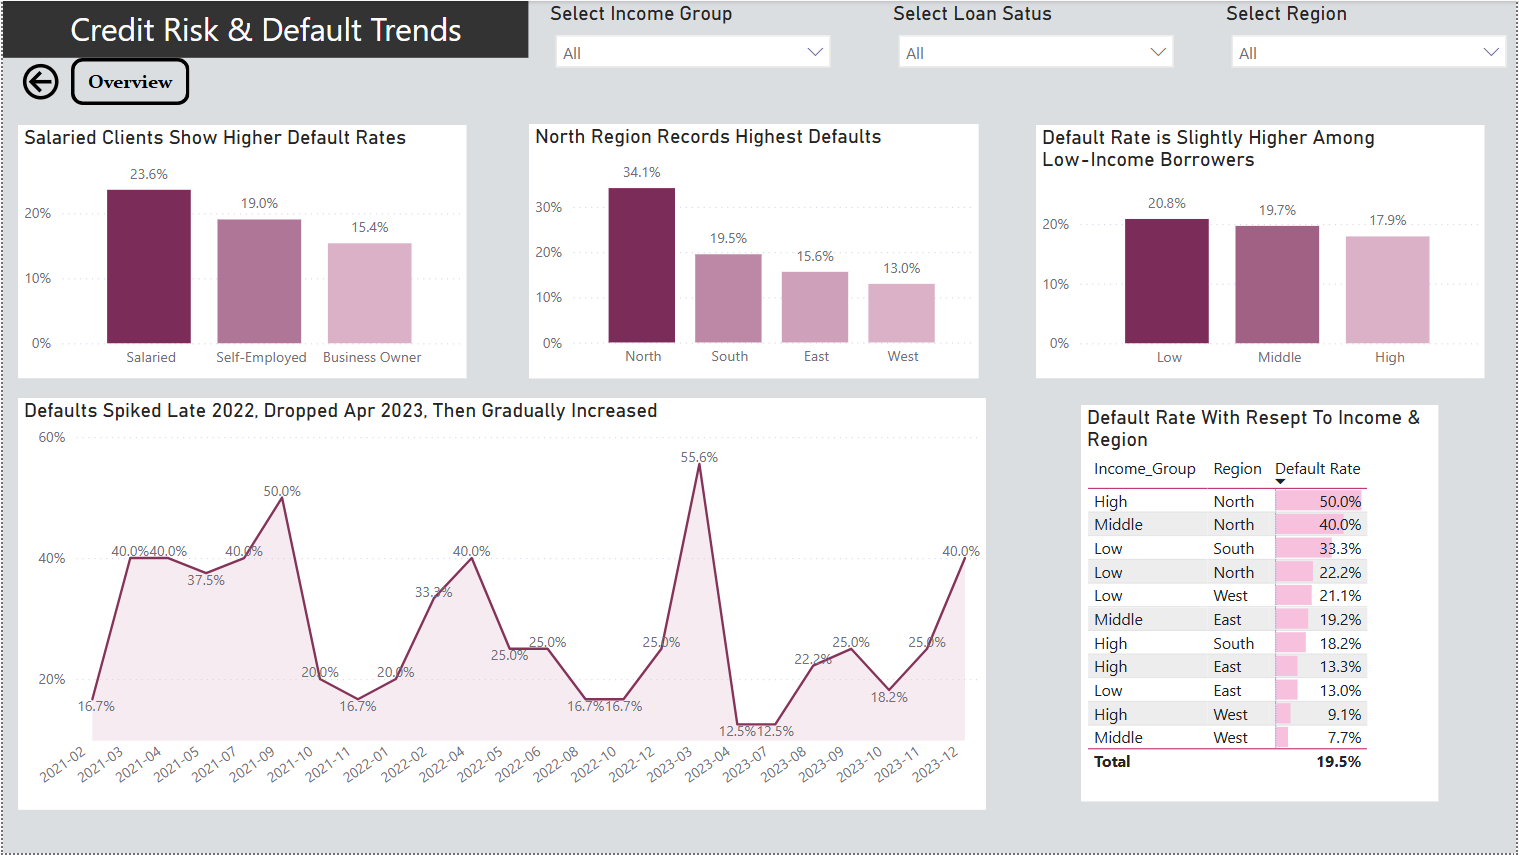

What the dashboard file says about the page in this screenshot:
{"tool":"powerbi","page":{"name":" Credit Risk & Default Trends","canvas":[1280,720],"ordinal":2},"visuals":[{"type":"textbox","box":[0,0,444.2,48.3],"z":1500},{"type":"columnChart","title":"Salaried Clients Show Higher Default Rates","fields":{"Category":["Customers.Occupation"],"Y":["M_Table.Default Rate (%)"]},"box":[12.3,104.9,378.8,214.4],"z":3000},{"type":"slicer","title":"Select Region","fields":{"Values":["Customers.Region"]},"box":[1028.5,0,251.8,79.4],"z":4000},{"type":"slicer","title":"Select Income Group","fields":{"Values":["Customers.Income_Group"]},"box":[457.2,0,251.8,79.4],"z":5000},{"type":"lineChart","title":"Defaults Spiked Late 2022, Dropped Apr 2023, Then Gradually Increased","fields":{"Y":["M_Table.Default Rate (%)"],"Category":["DateTable.YearMonth"]},"box":[12.3,335.4,818.1,347.6],"z":6000},{"type":"tableEx","title":"Default Rate With Resept To Income & Region","fields":{"Values":["Customers.Income_Group","Customers.Region","M_Table.Default Rate (%)"]},"box":[911,341.4,301.7,335.5],"z":7000},{"type":"columnChart","title":"Default Rate is Slightly Higher Among Low-Income Borrowers","fields":{"Category":["Customers.Income_Group"],"Y":["M_Table.Default Rate (%)"]},"box":[872.9,104.9,378.8,214.4],"z":8000},{"type":"columnChart","title":"North Region Records Highest Defaults ","fields":{"Category":["Customers.Region"],"Y":["M_Table.Default Rate (%)"]},"box":[444.5,104,379.6,214.6],"z":9000},{"type":"slicer","title":"Select Loan Satus","fields":{"Values":["Loans.Status"]},"box":[747,0,251.8,79.4],"z":10000},{"type":"actionButton","box":[57.6,48.2,100.1,39.7],"z":11000},{"type":"actionButton","box":[12.1,48.5,45.7,40.1],"z":12001}]}

Visuals, with their boxes in screenshot pixels (x1, y1, x2, y2), scaled from the page's 1280x720 canvas onto the 1519x855 screenshot:
textbox: [0,0,527,57]
"Salaried Clients Show Higher Default Rates" columnChart: [15,125,464,379]
"Select Region" slicer: [1221,0,1518,94]
"Select Income Group" slicer: [543,0,841,94]
"Defaults Spiked Late 2022, Dropped Apr 2023, Then Gradually Increased" lineChart: [15,398,985,811]
"Default Rate With Resept To Income & Region" tableEx: [1081,405,1439,804]
"Default Rate is Slightly Higher Among Low-Income Borrowers" columnChart: [1036,125,1485,379]
"North Region Records Highest Defaults " columnChart: [527,124,978,378]
"Select Loan Satus" slicer: [886,0,1185,94]
actionButton: [68,57,187,104]
actionButton: [14,58,69,105]
